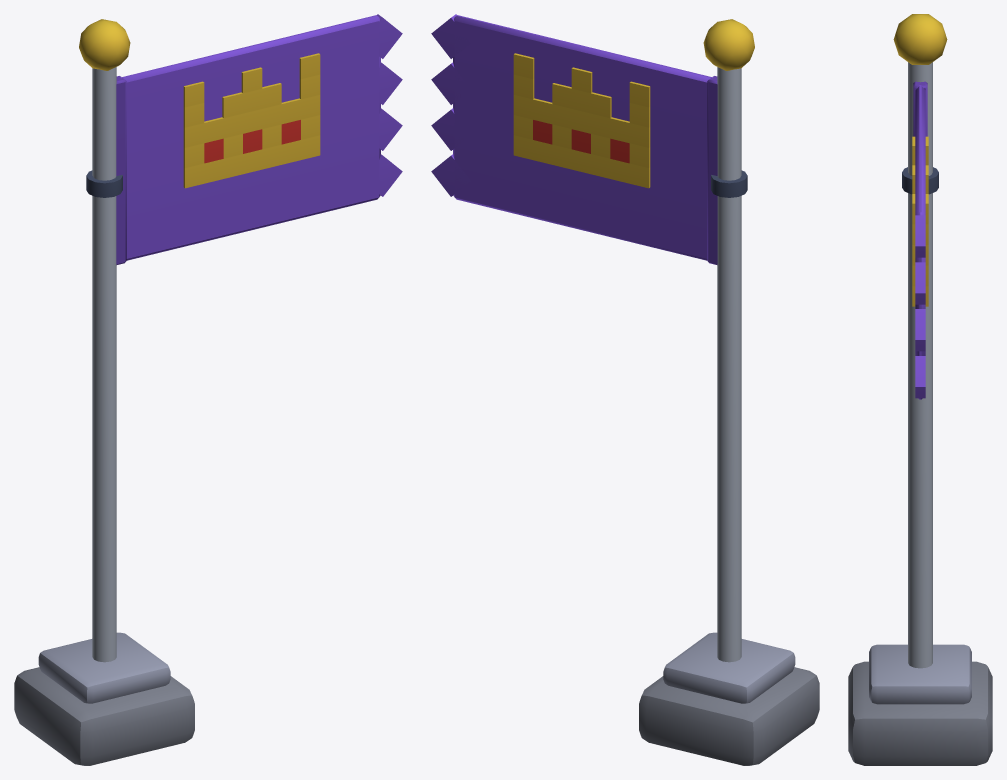
Rendered from lo_flag_krone.glb.
The picture shows the model from 3 angles, left to right: view 1: azimuth 30°, elevation 25°; view 2: azimuth 150°, elevation 25°; view 3: azimuth 270°, elevation 25°; orthographic projection.
Parts seen in each view (by area): view 1: sway_cloth, body; view 2: sway_cloth, body; view 3: body, sway_cloth.
Part boxes in pixels (x1,y1,x2,y2): sway_cloth: [116, 14, 402, 264]; body: [14, 19, 194, 765]; sway_cloth: [431, 14, 717, 264]; body: [639, 19, 819, 765]; body: [848, 14, 992, 765]; sway_cloth: [912, 81, 928, 399].
Bounding box in the file's own units: 2.03 × 3.88 × 0.7.
